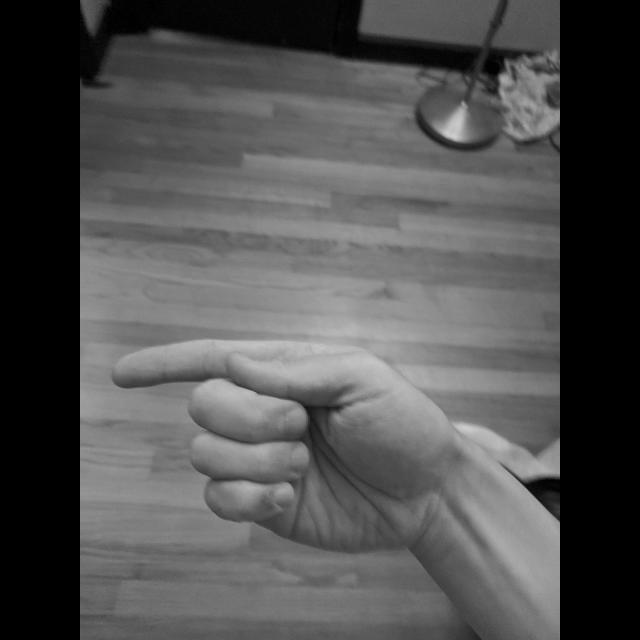G: (107, 334, 459, 560)
